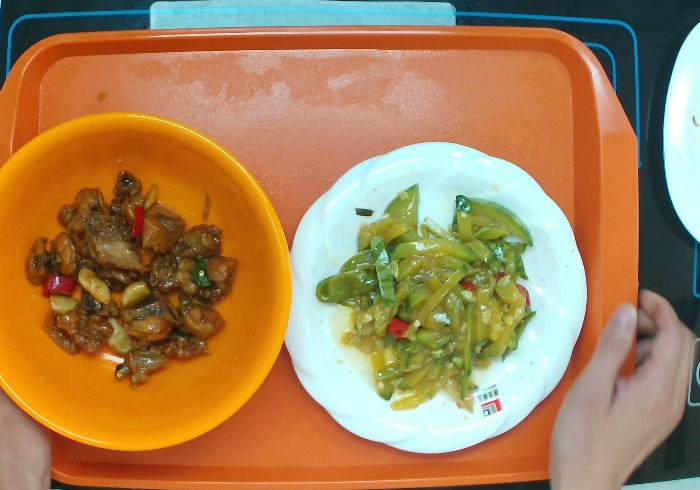ZNLD-Hua_Bian_Wan: (281, 138, 591, 459)
ZNLD-Ju_Se_Tang_Wan: (1, 109, 295, 458)
